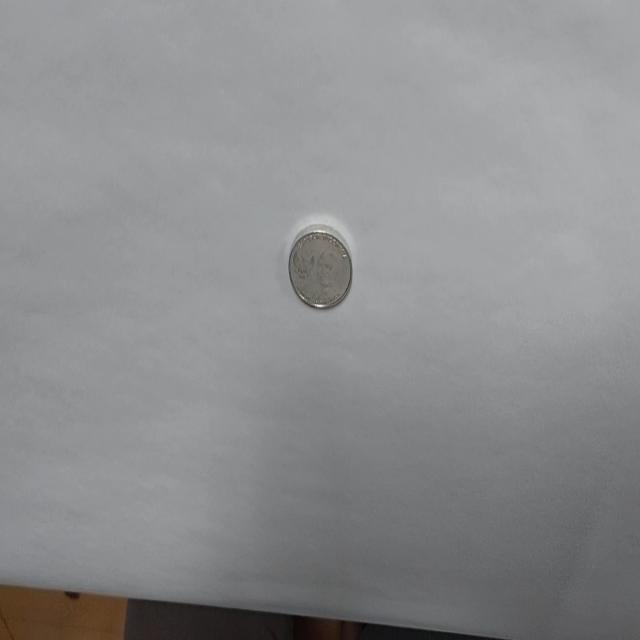lima ratus rupiah: (287, 224, 353, 310)
